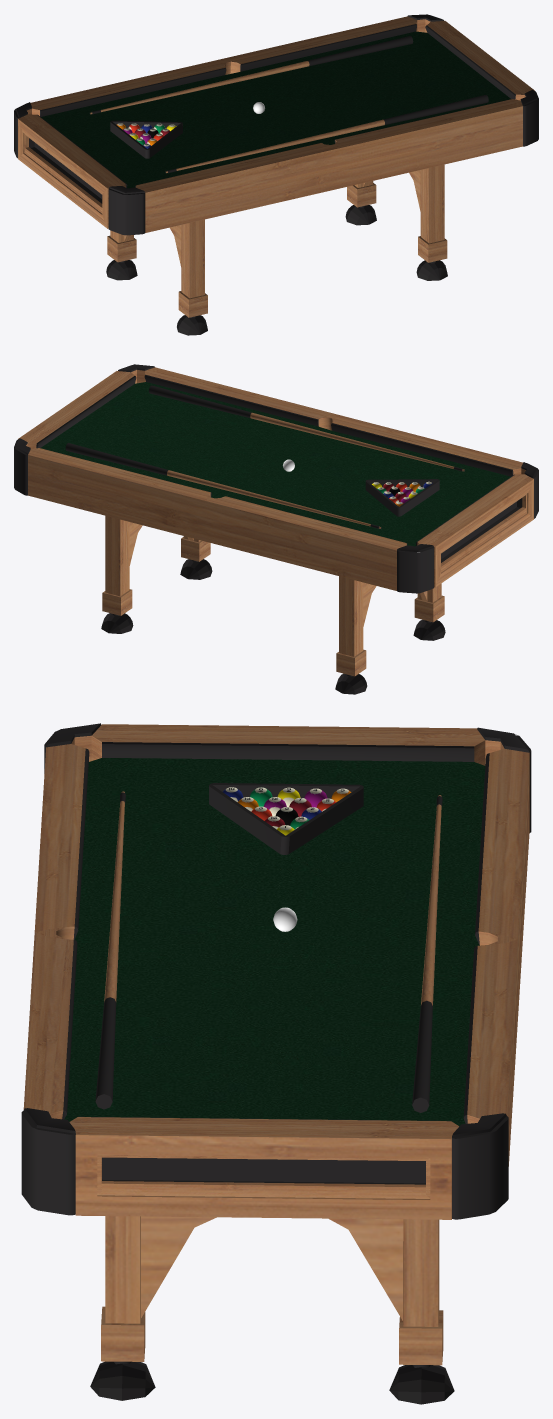
Rendered from pool table.glb.
The picture shows the model from 3 angles, top to bottom: view 1: azimuth 30°, elevation 25°; view 2: azimuth 150°, elevation 25°; view 3: azimuth 270°, elevation 25°; orthographic projection. The views are drawn at different scales.
Visible parts, largest first — view 1: Object_2.001; view 2: Object_2.001; view 3: Object_2.001.
Boxes of the visible parts, x1,y1,x2,y2 form: Object_2.001: (14,14,538,335); Object_2.001: (14,364,538,694); Object_2.001: (21,723,531,1404).
Size of the model in its own units: 2.26 by 0.8875 by 1.17.
Materials: 1 (1 with a texture image).
